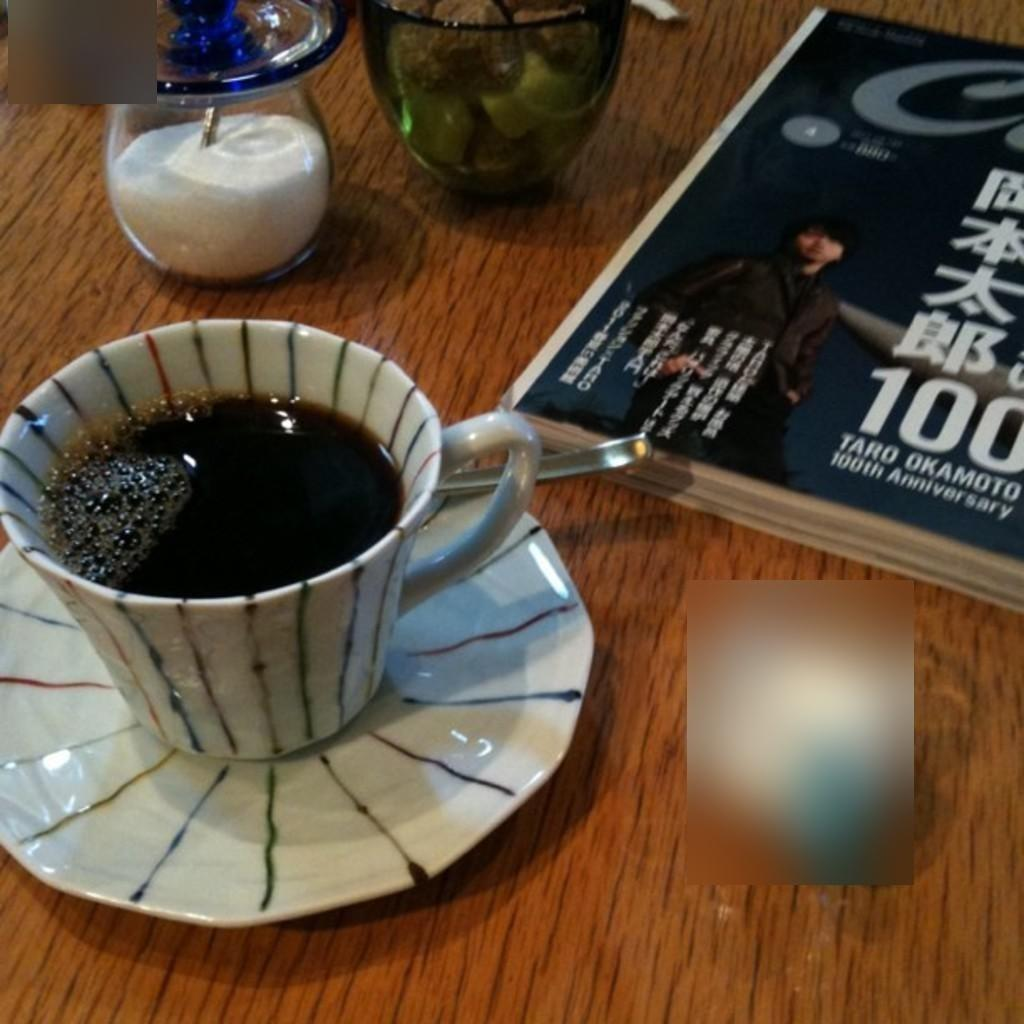cup-handle: (1, 313, 541, 763)
